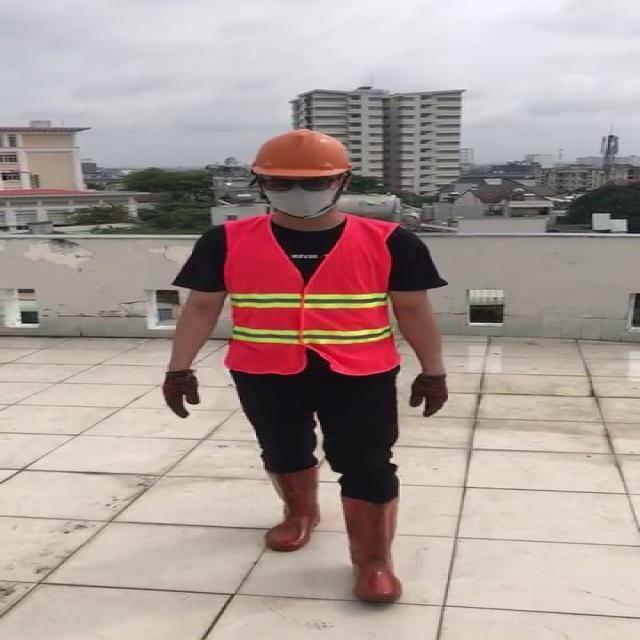gloves: (161, 369, 200, 419), (409, 373, 448, 418)
goggles: (248, 174, 344, 193)
helmet: (248, 125, 361, 178)
safety_vest: (228, 218, 398, 376)
